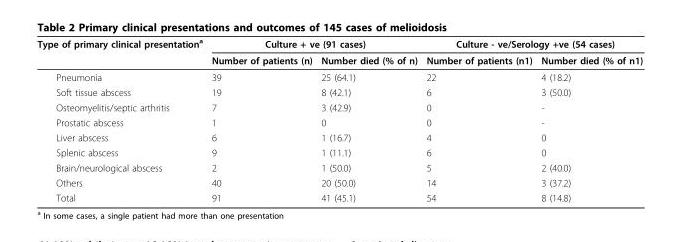table: (36, 36, 642, 203)
table column: (36, 36, 206, 203), (421, 36, 536, 203), (206, 36, 316, 203), (536, 36, 642, 203), (316, 36, 421, 203)
table column header: (36, 36, 642, 68)
table row: (36, 51, 642, 68), (36, 68, 642, 84), (36, 36, 642, 51), (36, 84, 642, 99), (36, 99, 642, 114), (36, 114, 642, 129), (36, 129, 642, 144), (36, 144, 642, 159), (36, 159, 642, 174), (36, 174, 642, 189), (36, 189, 642, 203)
table spanning cell: (36, 36, 206, 68), (421, 36, 642, 51), (206, 36, 421, 51)
